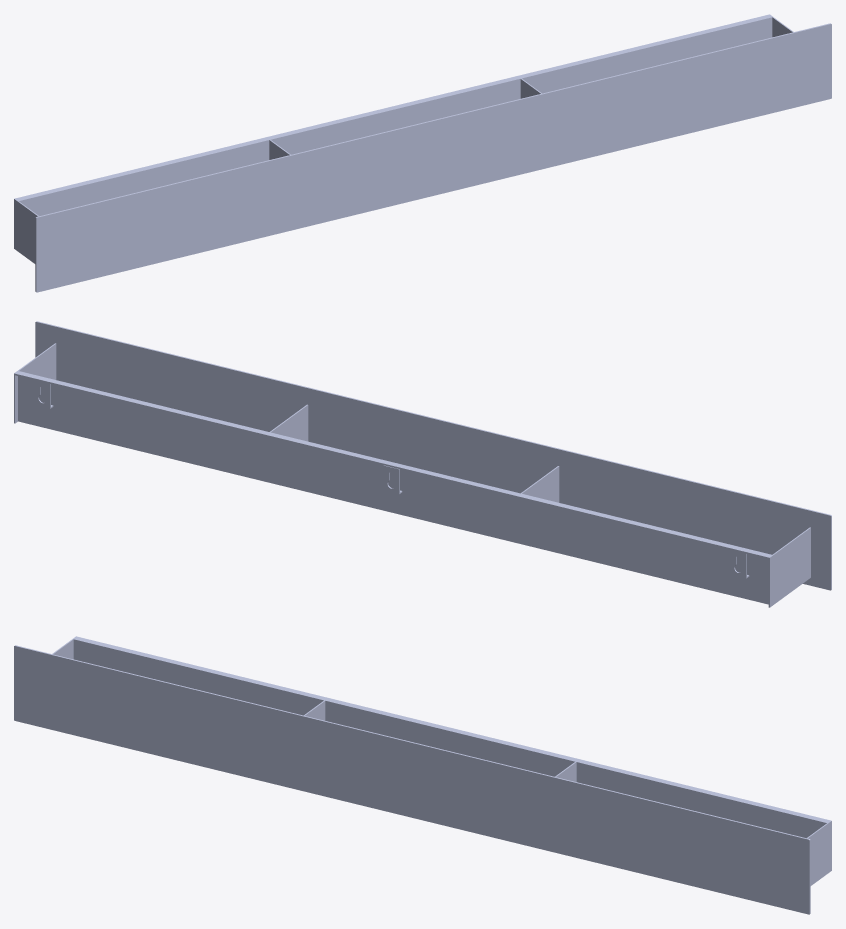
File: skyline-mono.e737ae55b4.glb
3 renders of one model, top to bottom at view 1: azimuth 30°, elevation 25°; view 2: azimuth 150°, elevation 25°; view 3: azimuth 330°, elevation 25°, orthographic.
Parts seen in each view (by area): view 1: NAUO1; view 2: NAUO1; view 3: NAUO1.
Part boxes in pixels (x1,y1,x2,y2): NAUO1: (14,14,831,292); NAUO1: (14,321,831,607); NAUO1: (14,636,831,914).
Bounding box in the file's own units: 1 × 0.09 × 0.0927.
